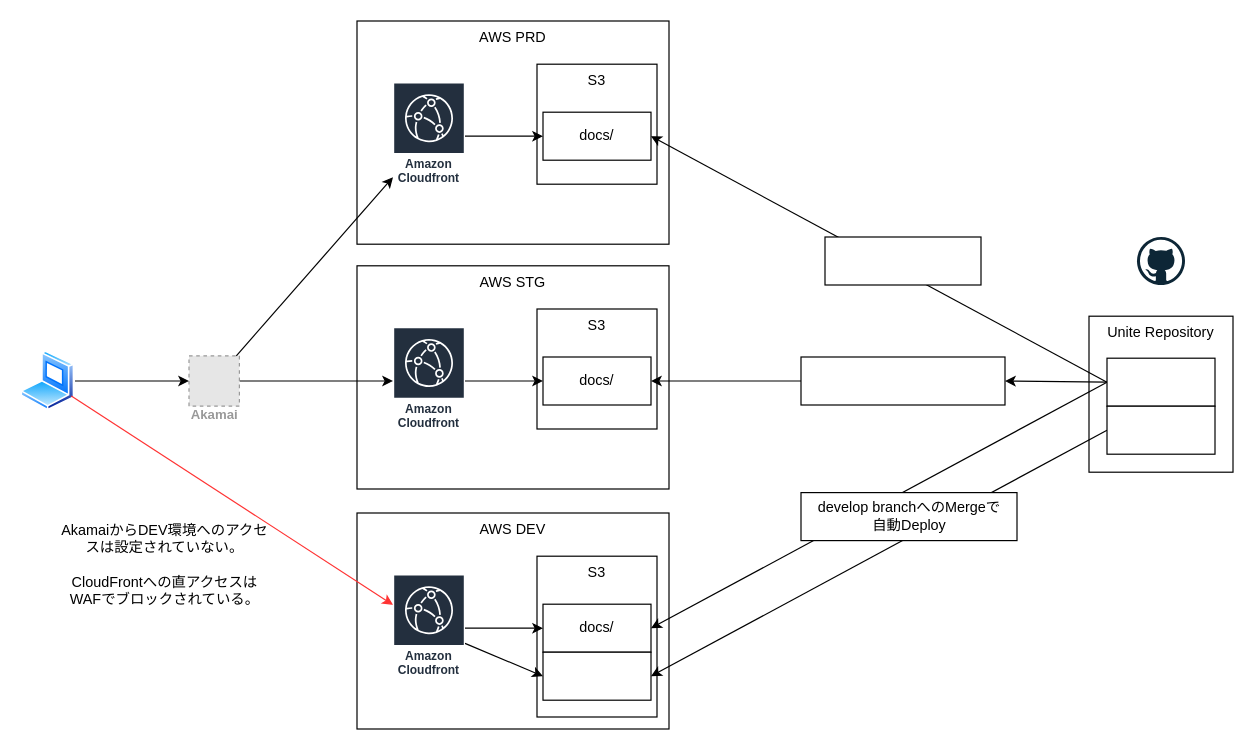
Image size: 1254x750. Some labels were removed from this diagram. Grey dashed boxes stand in for pictures. The shapes that lost their labels are listed below. From the top down, each one's centre as x and y in pixels, then its label:
At [902,260]: "master へのMergeで 自動Deploy".
At [1160,260]: "GHC".
At [47,380]: "Client".
At [902,380]: "staging branchへのMergeで 自動Deploy".
At [1160,381]: "epos_contents".
At [1160,429]: "dynamic".
At [596,675]: "dynamic/".
